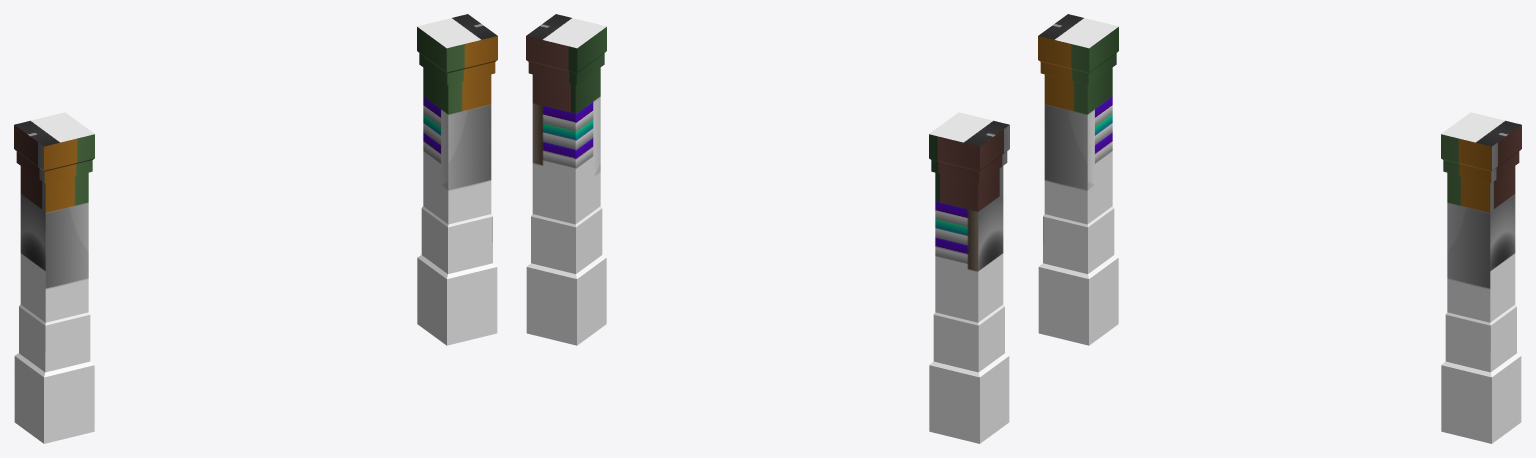
The model's file is Pillar_2.fbx.
3 views of the same model, side by side, from view 1: azimuth 30°, elevation 25°; view 2: azimuth 150°, elevation 25°; view 3: azimuth 330°, elevation 25° (orthographic).
Visible parts, largest first — view 1: OUTSIDEWALL_RECESSED_PANEL_Pillar.001; view 2: OUTSIDEWALL_RECESSED_PANEL_Pillar.001; view 3: OUTSIDEWALL_RECESSED_PANEL_Pillar.001.
Boxes of the visible parts, x1,y1,x2,y2 form: OUTSIDEWALL_RECESSED_PANEL_Pillar.001: (14,14,497,443); OUTSIDEWALL_RECESSED_PANEL_Pillar.001: (526,14,1009,443); OUTSIDEWALL_RECESSED_PANEL_Pillar.001: (1038,14,1521,443).
Size of the model in its own units: 1771 by 1109 by 202.
